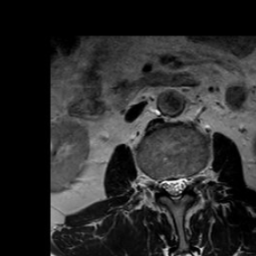CCS_normal: (171, 168, 180, 210)
LFS_normal: (188, 165, 198, 193)
LLS_normal: (180, 166, 188, 197)
RFS_normal: (151, 167, 161, 198)
RLS_normal: (161, 169, 171, 200)
